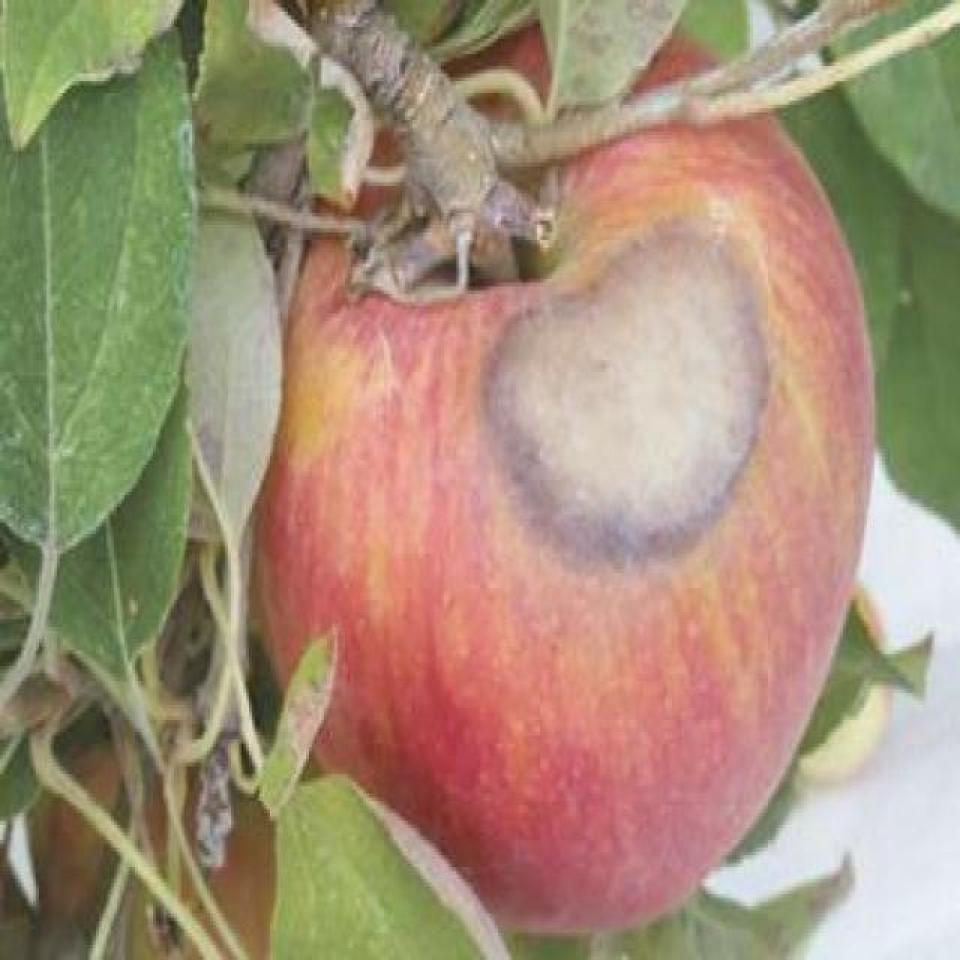Sunscald: (496, 226, 762, 556)
